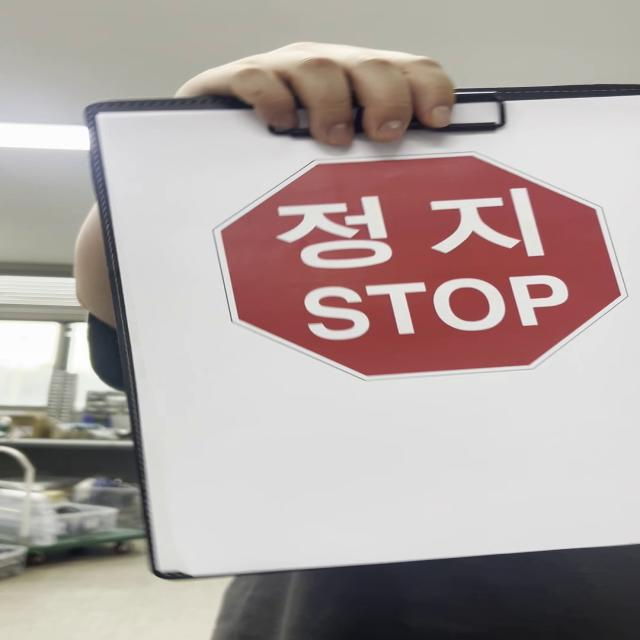stop: (211, 152, 633, 382)
